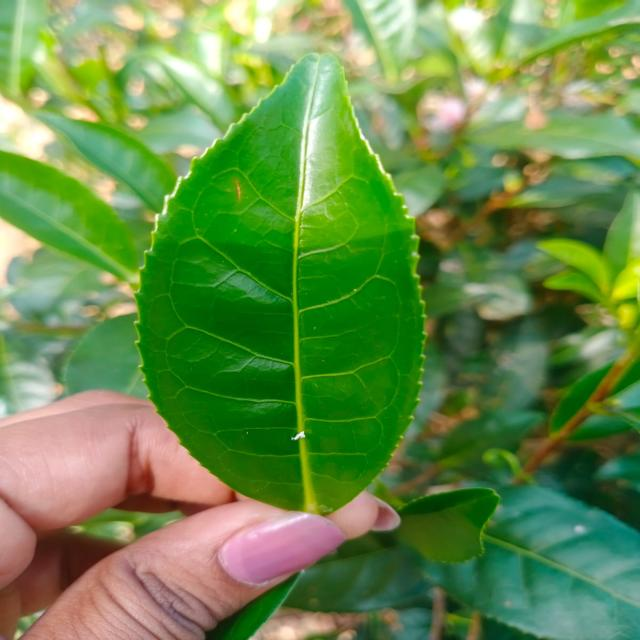Category D(7+ days, Not for Tea): (110, 28, 490, 551)
